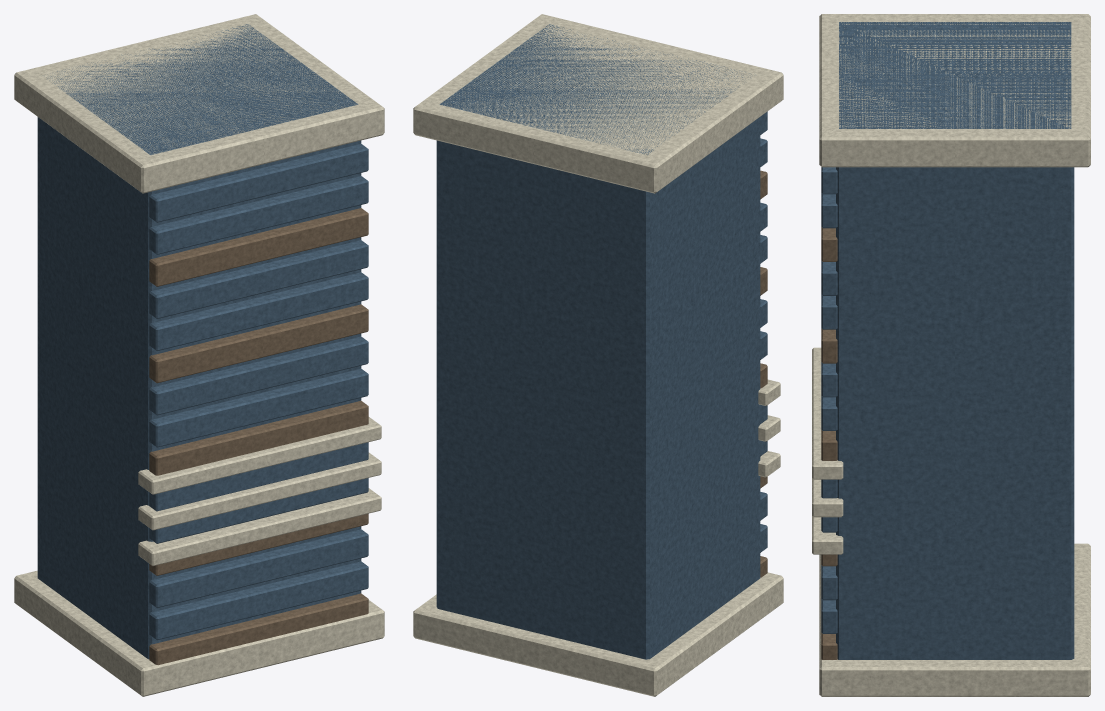
The model's file is TUNN21RW_lod0.glb.
3 renders of one model, left to right at view 1: azimuth 30°, elevation 25°; view 2: azimuth 150°, elevation 25°; view 3: azimuth 270°, elevation 25°, orthographic. The views are drawn at different scales.
Parts seen in each view (by area): view 1: TUNN21RW_LOD0; view 2: TUNN21RW_LOD0; view 3: TUNN21RW_LOD0.
Part boxes in pixels (x1,y1,x2,y2): TUNN21RW_LOD0: [14, 14, 384, 696]; TUNN21RW_LOD0: [413, 14, 783, 696]; TUNN21RW_LOD0: [812, 14, 1090, 696].
Bounding box in the file's own units: 1.43 × 3 × 1.34.
4 materials, 4 textured.
